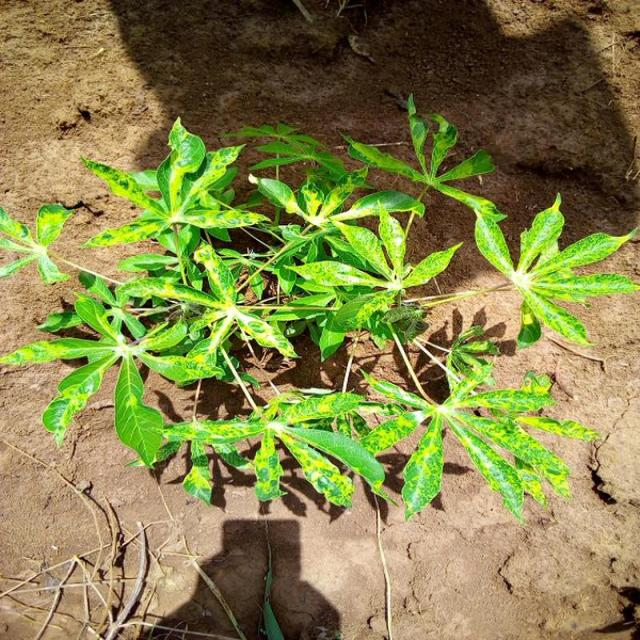Mosaico: (342, 373, 634, 509), (447, 198, 640, 349), (181, 388, 401, 504), (24, 319, 241, 420), (281, 223, 462, 330), (70, 152, 253, 242), (7, 194, 95, 309)
